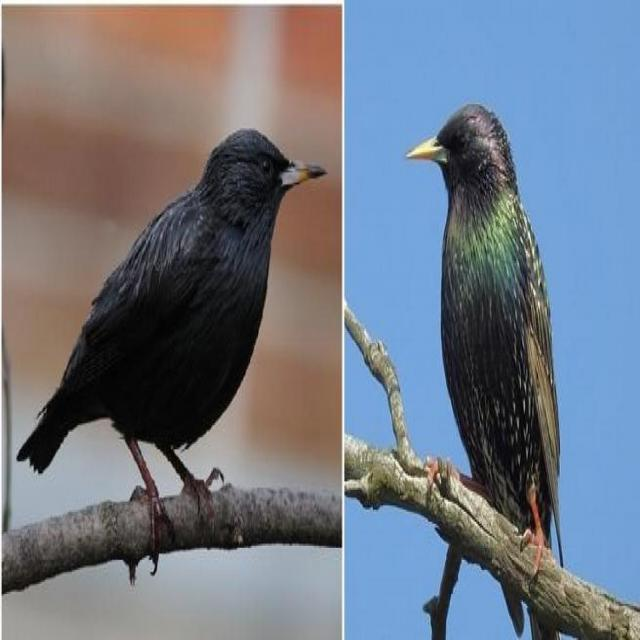bird: (8, 33, 342, 611), (371, 21, 628, 640)
